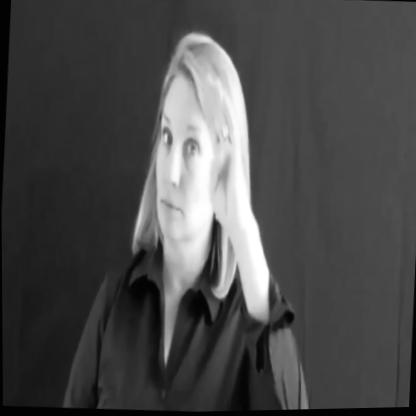Hello: (142, 26, 283, 304)
